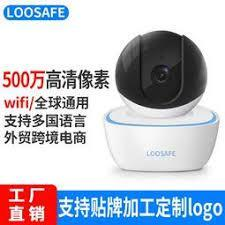maru: (115, 31, 208, 117)
